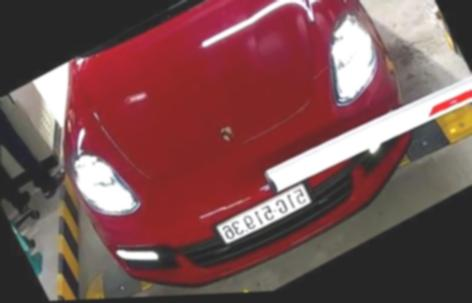License_Plate: (211, 179, 313, 251)
